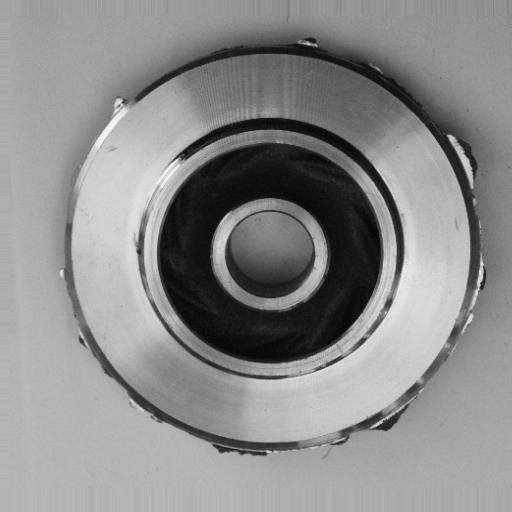casting_with_burr: (60, 35, 489, 460)
scratch: (129, 146, 192, 262)
